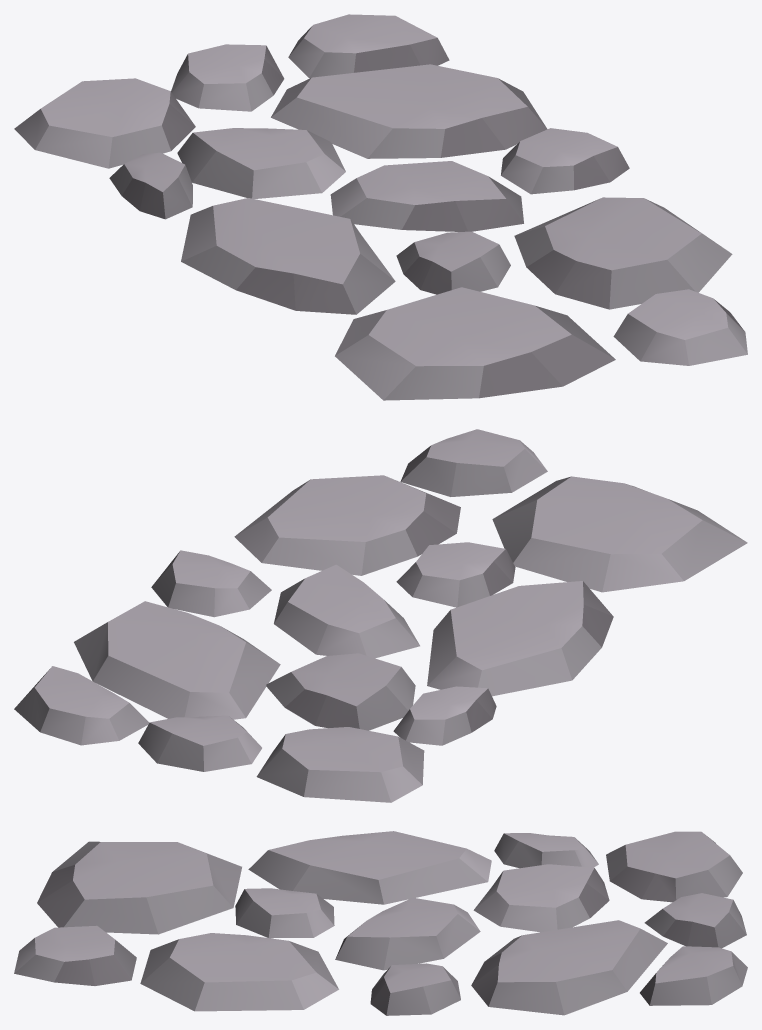
File: Stone_road.fbx
The picture shows the model from 3 angles, top to bottom: view 1: azimuth 30°, elevation 25°; view 2: azimuth 150°, elevation 25°; view 3: azimuth 270°, elevation 25°; orthographic projection. The views are drawn at different scales.
Visible parts, largest first — view 1: Stone_road; view 2: Stone_road; view 3: Stone_road.
Part boxes in pixels (left/top/right/bottom): Stone_road: left=14, top=14, right=747, bottom=400; Stone_road: left=14, top=429, right=747, bottom=802; Stone_road: left=14, top=831, right=747, bottom=1015.
Bounding box in the file's own units: 0.0289 × 0.00158 × 0.0503.
